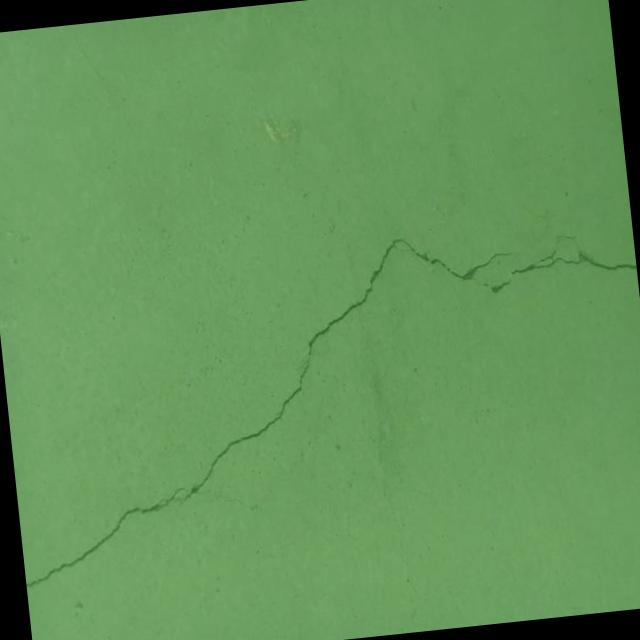crack: (0, 212, 640, 587)
